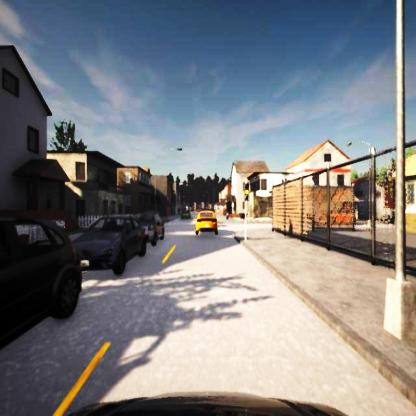vehicle: (0, 211, 83, 390), (71, 215, 147, 274), (138, 210, 163, 242), (194, 210, 217, 235)
